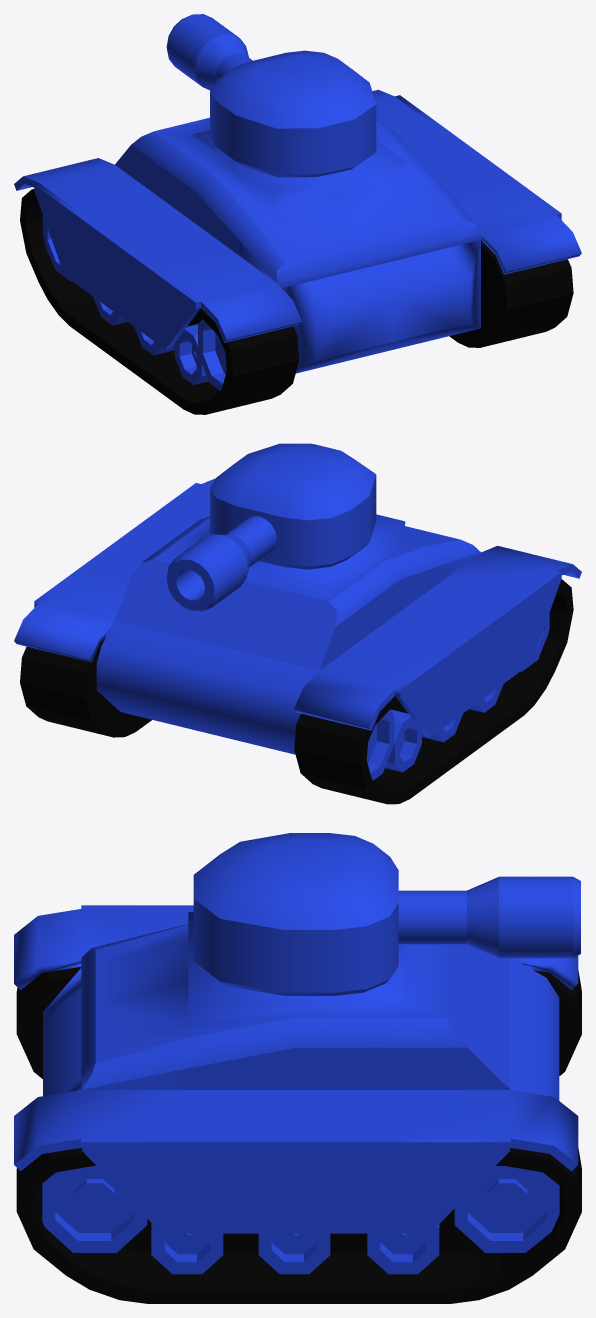
The model's file is tenk9aa.gltf.
3 renders of one model, top to bottom at view 1: azimuth 30°, elevation 25°; view 2: azimuth 150°, elevation 25°; view 3: azimuth 270°, elevation 25°, orthographic. The views are drawn at different scales.
Parts seen in each view (by area): view 1: Tenk; view 2: Tenk; view 3: Tenk.
Part boxes in pixels (box(x1,y1,x2,y2)): Tenk: box(14, 14, 581, 414); Tenk: box(14, 443, 581, 804); Tenk: box(14, 833, 581, 1303).
Bounding box in the file's own units: 1.68 × 1.11 × 1.7.
